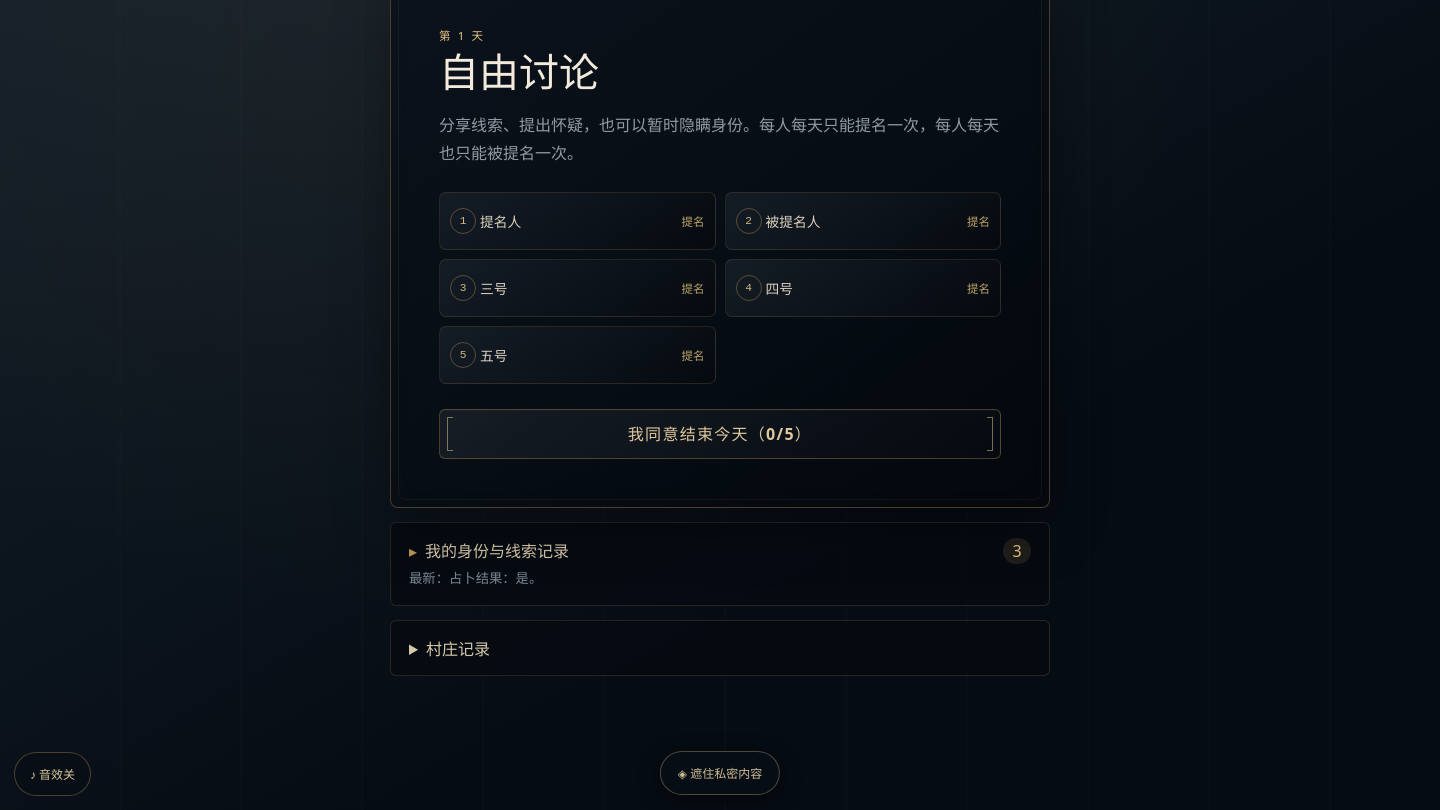
private identity, actions, and clues are grouped into a readable timeline
This screenshot has width=1440, height=810.
(page scrolled)
Click the text "我的身份与线索记录": (497, 552) x1=425 y1=540 x2=569 y2=562
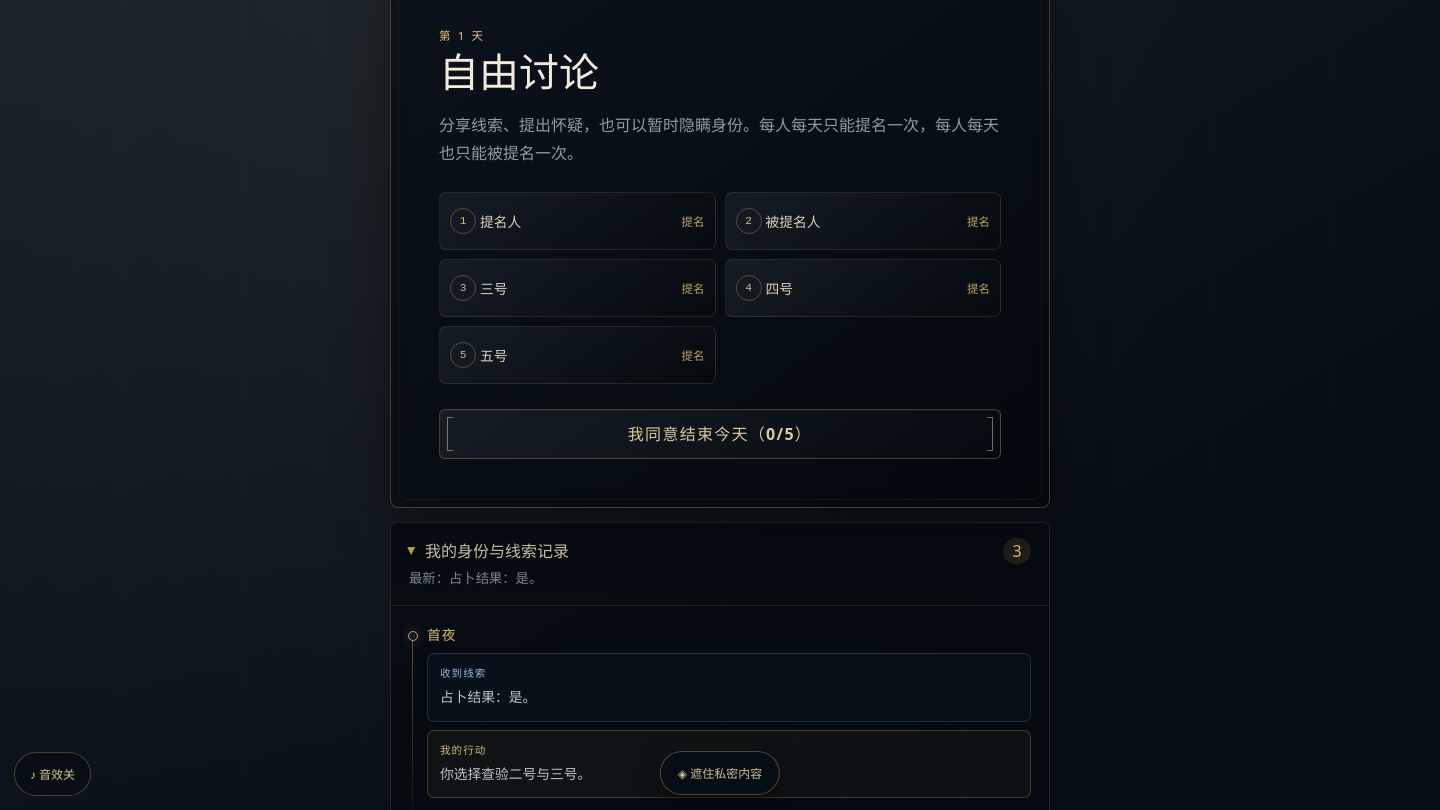
Expected: the heading "首夜" is shown, x1=427 y1=628 x2=457 y2=644
Expected: the text "你选择查验二号与三号。" is shown, x1=440 y1=764 x2=591 y2=783
Expected: the text "占卜结果：是。" is shown, x1=440 y1=688 x2=536 y2=706
